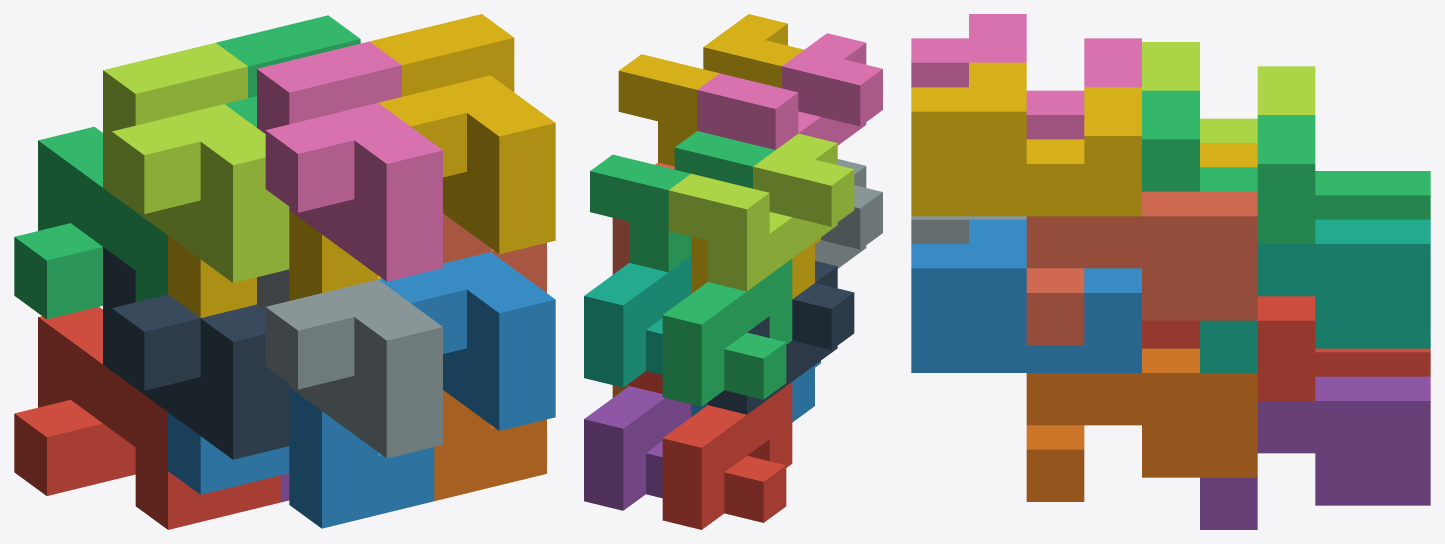
The model's file is tiling.obj.
3 views of the same model, side by side, from view 1: azimuth 30°, elevation 25°; view 2: azimuth 150°, elevation 25°; view 3: azimuth 270°, elevation 25° (orthographic). The views are drawn at different scales.
Parts seen in each view (by area): view 1: copy_2_domain_4, copy_2_domain_3, copy_2_domain_8, copy_1_domain_1, copy_2_domain_2, copy_2_domain_1, copy_2_domain_6, copy_1_domain_3, copy_1_domain_2, copy_1_domain_4, copy_1_domain_6, copy_2_domain_7 (+1 smaller); view 2: copy_2_domain_3, copy_1_domain_1, copy_1_domain_3, copy_2_domain_4, copy_2_domain_7, copy_2_domain_8, copy_1_domain_7, copy_1_domain_5, copy_2_domain_1, copy_2_domain_2, copy_1_domain_4, copy_1_domain_2 (+2 smaller); view 3: copy_2_domain_8, copy_1_domain_8, copy_1_domain_6, copy_2_domain_6, copy_1_domain_5, copy_1_domain_7, copy_2_domain_7, copy_2_domain_4, copy_2_domain_5, copy_2_domain_3, copy_1_domain_3, copy_1_domain_1 (+2 smaller).
Part boxes in pixels (left/top/right/bottom): copy_2_domain_4: left=257, top=41, right=442, bottom=281; copy_2_domain_3: left=103, top=43, right=289, bottom=282; copy_2_domain_8: left=369, top=14, right=555, bottom=254; copy_1_domain_1: left=14, top=307, right=280, bottom=529; copy_2_domain_2: left=257, top=269, right=442, bottom=458; copy_2_domain_1: left=103, top=247, right=289, bottom=459; copy_2_domain_6: left=378, top=252, right=555, bottom=430; copy_1_domain_3: left=14, top=126, right=167, bottom=319; copy_1_domain_2: left=168, top=387, right=434, bottom=528; copy_1_domain_4: left=168, top=211, right=381, bottom=317; copy_1_domain_6: left=434, top=390, right=546, bottom=500; copy_2_domain_7: left=216, top=15, right=360, bottom=127; copy_2_domain_3: left=668, top=133, right=854, bottom=291; copy_1_domain_1: left=662, top=382, right=792, bottom=529; copy_1_domain_3: left=662, top=259, right=792, bottom=406; copy_2_domain_4: left=697, top=33, right=882, bottom=149; copy_2_domain_7: left=590, top=131, right=775, bottom=272; copy_2_domain_8: left=618, top=14, right=803, bottom=166; copy_1_domain_7: left=584, top=256, right=691, bottom=387; copy_1_domain_5: left=584, top=386, right=691, bottom=510; copy_2_domain_1: left=707, top=261, right=854, bottom=414; copy_2_domain_2: left=815, top=159, right=882, bottom=268; copy_1_domain_4: left=691, top=237, right=820, bottom=298; copy_1_domain_2: left=691, top=361, right=820, bottom=422; copy_2_domain_8: left=911, top=62, right=1141, bottom=216; copy_1_domain_8: left=1026, top=191, right=1257, bottom=345; copy_1_domain_6: left=1026, top=348, right=1257, bottom=501; copy_2_domain_6: left=911, top=219, right=1141, bottom=372; copy_1_domain_5: left=1200, top=376, right=1430, bottom=529; copy_1_domain_7: left=1200, top=219, right=1430, bottom=372; copy_2_domain_7: left=1142, top=90, right=1315, bottom=243; copy_2_domain_4: left=911, top=14, right=1141, bottom=139; copy_2_domain_5: left=1142, top=296, right=1315, bottom=400; copy_2_domain_3: left=1142, top=42, right=1315, bottom=142; copy_1_domain_3: left=1315, top=171, right=1430, bottom=219; copy_1_domain_1: left=1315, top=348, right=1430, bottom=376.
Bounding box in the file's own units: 6 × 8 × 9.
